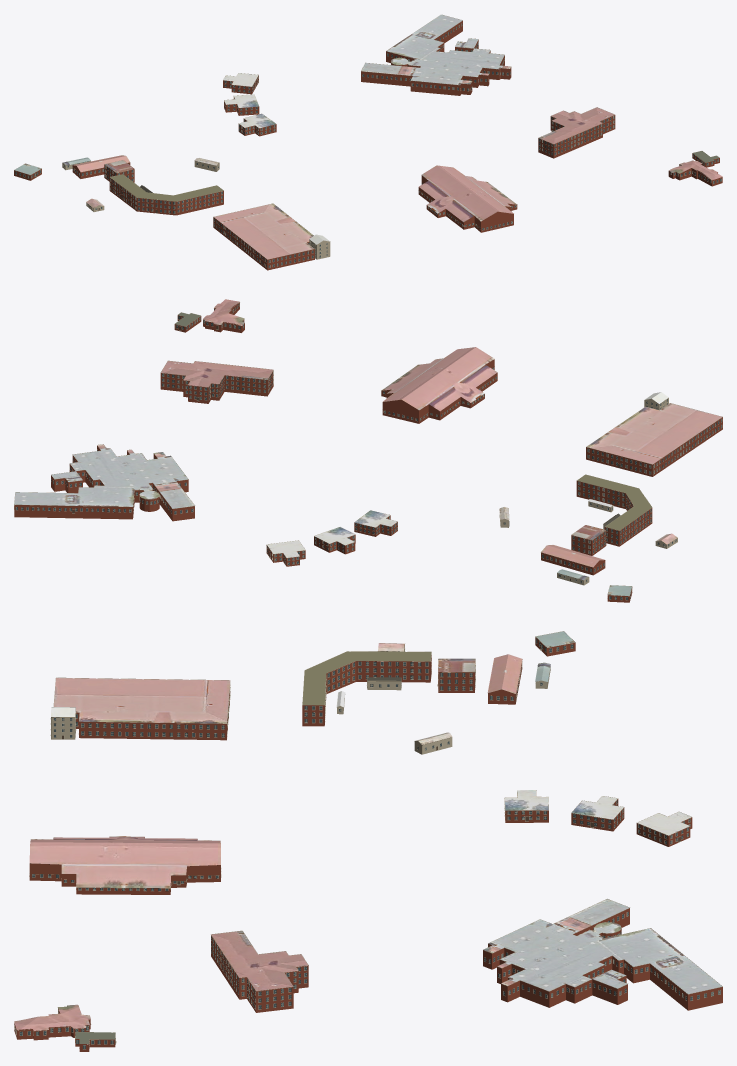
3 renders of one model, top to bottom at view 1: azimuth 30°, elevation 25°; view 2: azimuth 150°, elevation 25°; view 3: azimuth 270°, elevation 25°, orthographic. The views are drawn at different scales.
Visible parts, largest first — view 1: -5_1_271772894_0, -5_1_272125973_11, -5_1_271773859_3; view 2: -5_1_271772894_0, -5_1_272125973_11, -5_1_271773859_3; view 3: -5_1_271772894_0, -5_1_272125973_11, -5_1_271773859_3.
Boxes of the visible parts, <box> form: -5_1_271772894_0: <box>14,14,722,270</box>; -5_1_272125973_11: <box>110,151,719,201</box>; -5_1_271773859_3: <box>62,161,330,259</box>; -5_1_271772894_0: <box>14,299,722,602</box>; -5_1_272125973_11: <box>175,312,651,530</box>; -5_1_271773859_3: <box>499,398,677,585</box>; -5_1_271772894_0: <box>14,631,722,1051</box>; -5_1_272125973_11: <box>75,651,431,1044</box>; -5_1_271773859_3: <box>51,644,550,754</box>.
Size of the model in its own units: 519 by 26.37 by 383.
12 materials, 1 textured.
